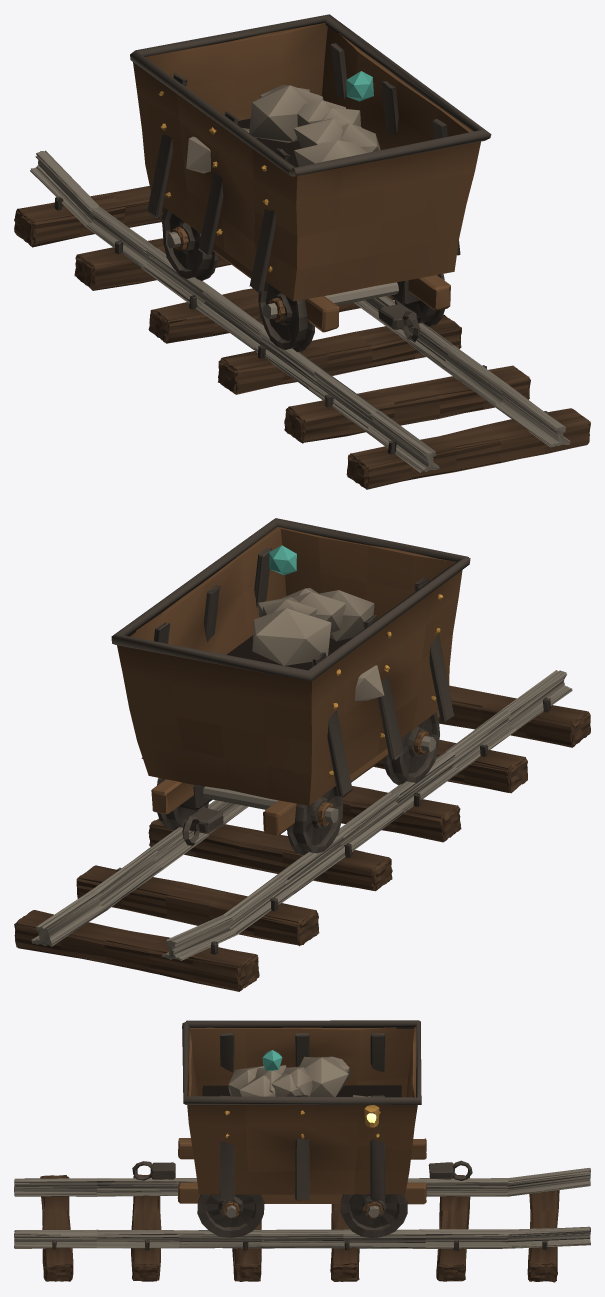
The model's file is mine_cart.glb.
3 renders of one model, top to bottom at view 1: azimuth 30°, elevation 25°; view 2: azimuth 150°, elevation 25°; view 3: azimuth 270°, elevation 25°, orthographic. The views are drawn at different scales.
Parts seen in each view (by area): view 1: MineCart; view 2: MineCart; view 3: MineCart.
Boxes of the visible parts, left/top/right/bottom form: MineCart: left=14, top=14, right=590, bottom=489; MineCart: left=14, top=518, right=590, bottom=991; MineCart: left=14, top=1020, right=590, bottom=1282.
Size of the model in its own units: 1.02 by 1.15 by 2.91.
